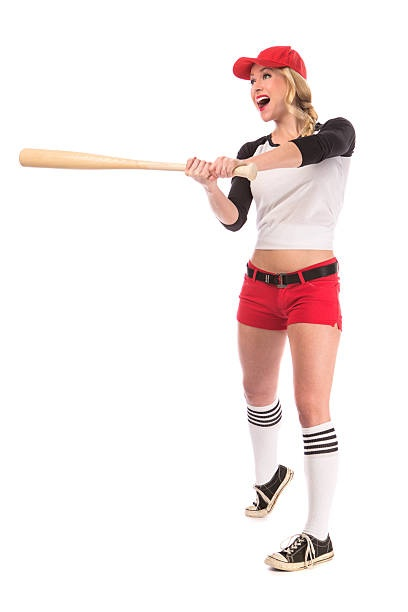bita: (18, 147, 255, 186)
